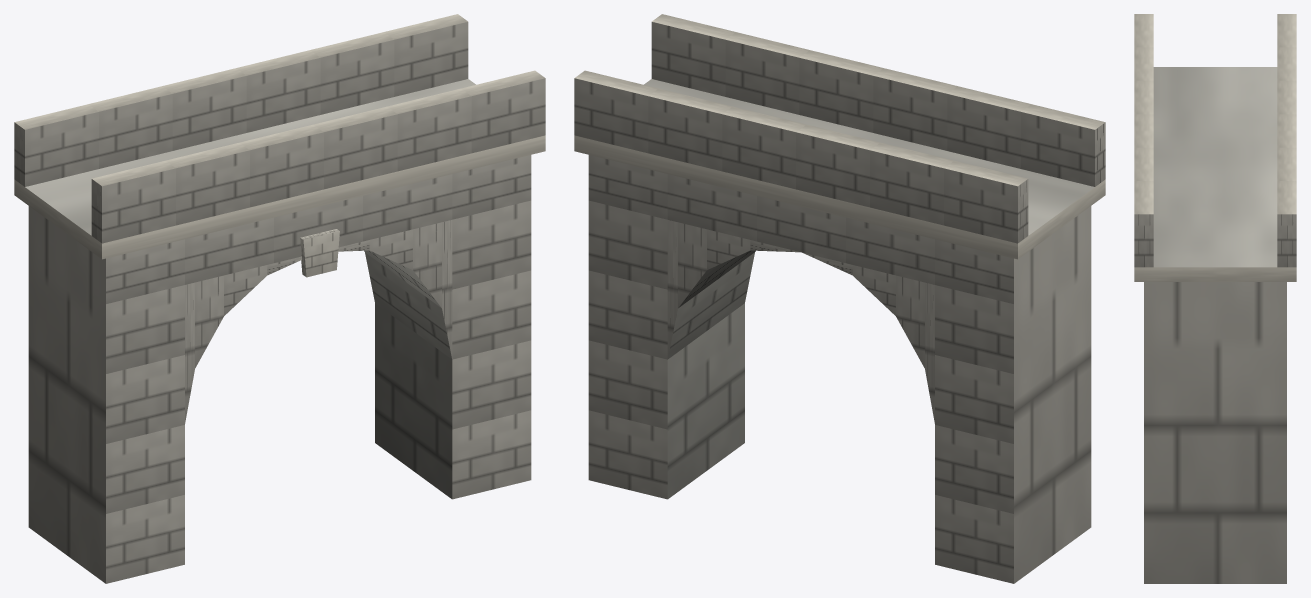
The model's file is archway_street_01.glb.
3 renders of one model, left to right at view 1: azimuth 30°, elevation 25°; view 2: azimuth 150°, elevation 25°; view 3: azimuth 270°, elevation 25°, orthographic. The views are drawn at different scales.
Visible parts, largest first — view 1: archway_street_01; view 2: archway_street_01; view 3: archway_street_01.
Boxes of the visible parts, x1,y1,x2,y2 form: archway_street_01: (14, 14, 545, 583); archway_street_01: (574, 14, 1105, 583); archway_street_01: (1134, 14, 1296, 583).
Size of the model in its own units: 7.3 by 6.35 by 2.5.
1 material, 1 textured.
